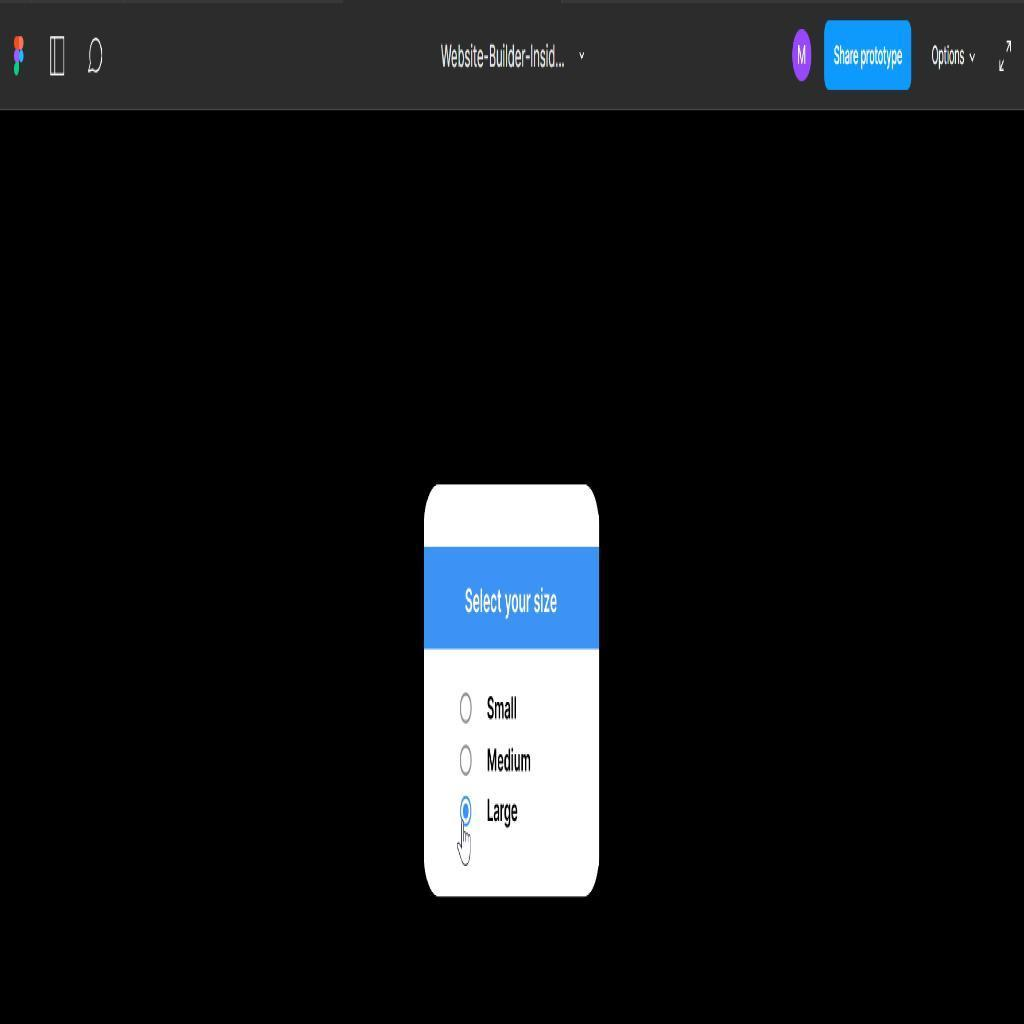button: (825, 20, 912, 91)
icon: (46, 32, 74, 83), (83, 37, 109, 79), (995, 38, 1016, 73)
label: (927, 42, 982, 73), (486, 742, 534, 777), (485, 796, 520, 830), (485, 694, 523, 725)
radio: (459, 795, 477, 829), (459, 691, 475, 726), (460, 744, 473, 778)
